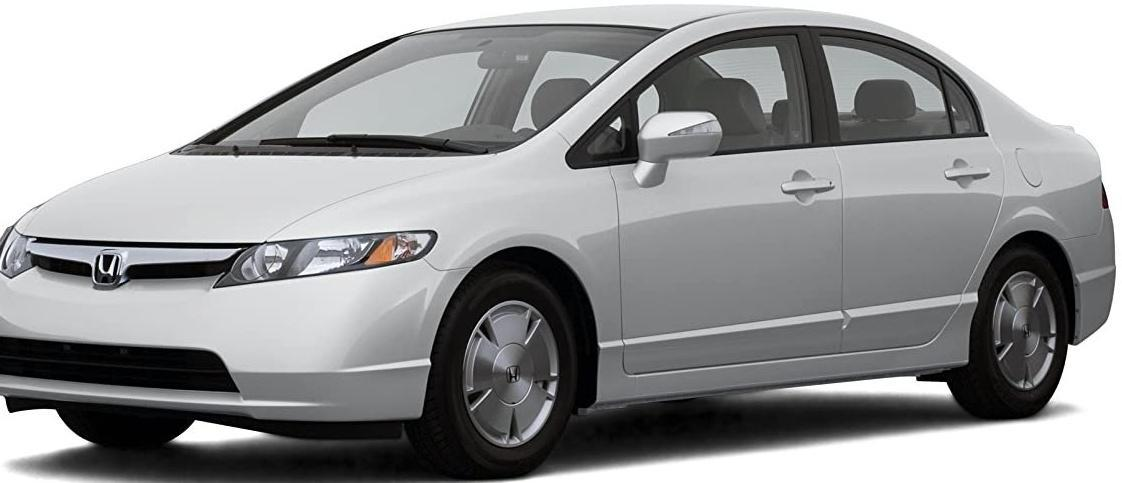Cars: (1, 10, 1114, 479)
